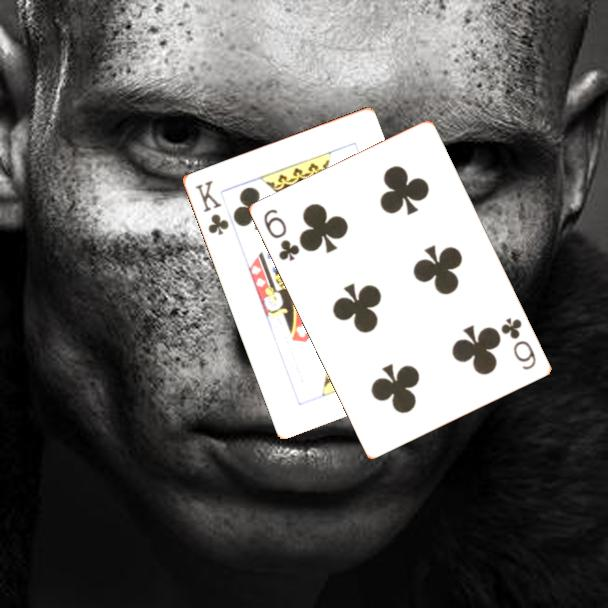c06: (260, 206, 303, 264), (497, 314, 539, 373)
c13: (191, 177, 232, 238)
